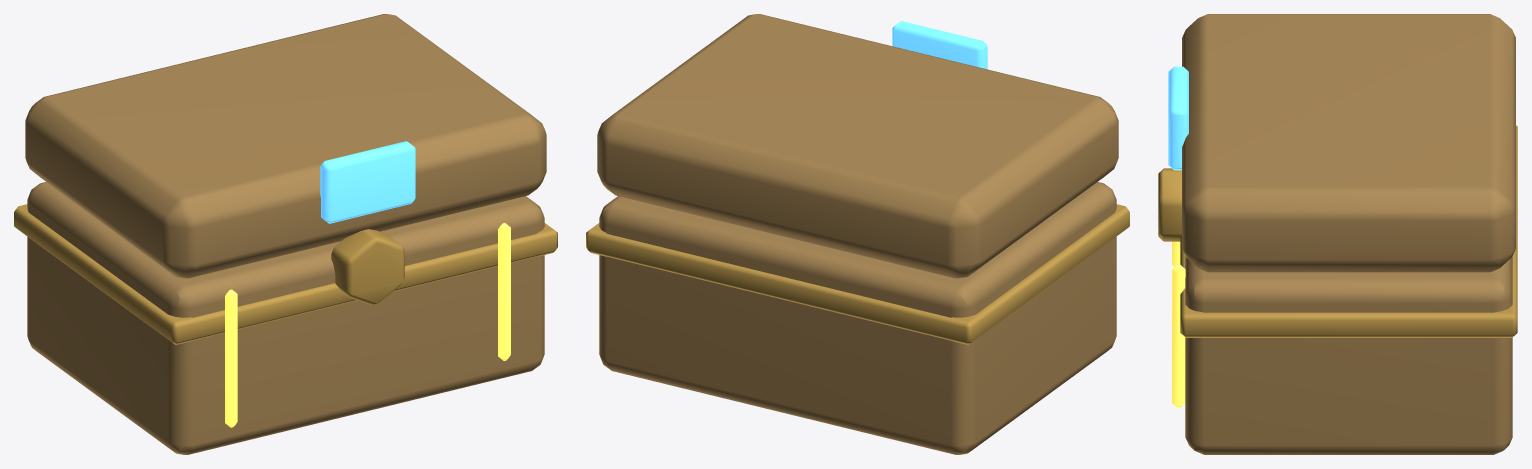
Rendered from prop_coffer_brass.glb.
3 renders of one model, left to right at view 1: azimuth 30°, elevation 25°; view 2: azimuth 150°, elevation 25°; view 3: azimuth 270°, elevation 25°, orthographic. The views are drawn at different scales.
Visible parts, largest first — view 1: prop_coffer_brass; view 2: prop_coffer_brass; view 3: prop_coffer_brass.
Boxes of the visible parts, left/top/right/bottom form: prop_coffer_brass: left=14, top=14, right=557, bottom=454; prop_coffer_brass: left=586, top=14, right=1129, bottom=454; prop_coffer_brass: left=1158, top=14, right=1517, bottom=454.
Size of the model in its own units: 0.6798 by 0.4526 by 0.5268.
Materials: 1 (1 with a texture image).
